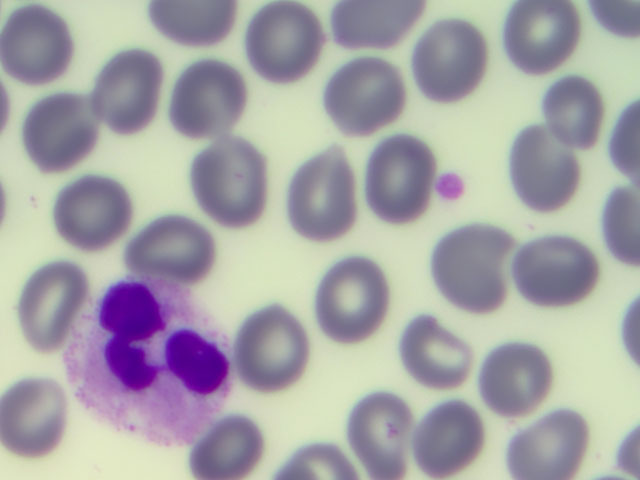Platelets: (440, 175, 465, 199)
RBC: (361, 136, 434, 228), (512, 130, 577, 225), (438, 228, 509, 313), (286, 158, 353, 248), (6, 5, 76, 84), (197, 145, 263, 226), (331, 62, 404, 135), (422, 19, 486, 102), (322, 261, 387, 342), (405, 318, 476, 391), (251, 9, 323, 80), (484, 345, 554, 418), (179, 64, 246, 140), (96, 60, 160, 137), (519, 240, 593, 305), (246, 306, 307, 384), (350, 398, 408, 478), (27, 102, 93, 172), (416, 404, 480, 476), (25, 263, 76, 350), (1, 381, 58, 458), (516, 413, 581, 480), (143, 1, 244, 44), (131, 220, 209, 275), (511, 1, 573, 70), (55, 189, 126, 247), (544, 78, 603, 146), (334, 1, 415, 48), (200, 423, 260, 480), (605, 183, 640, 271), (276, 450, 351, 480), (613, 105, 640, 186), (586, 1, 632, 37)
WBC: (75, 288, 227, 444)
